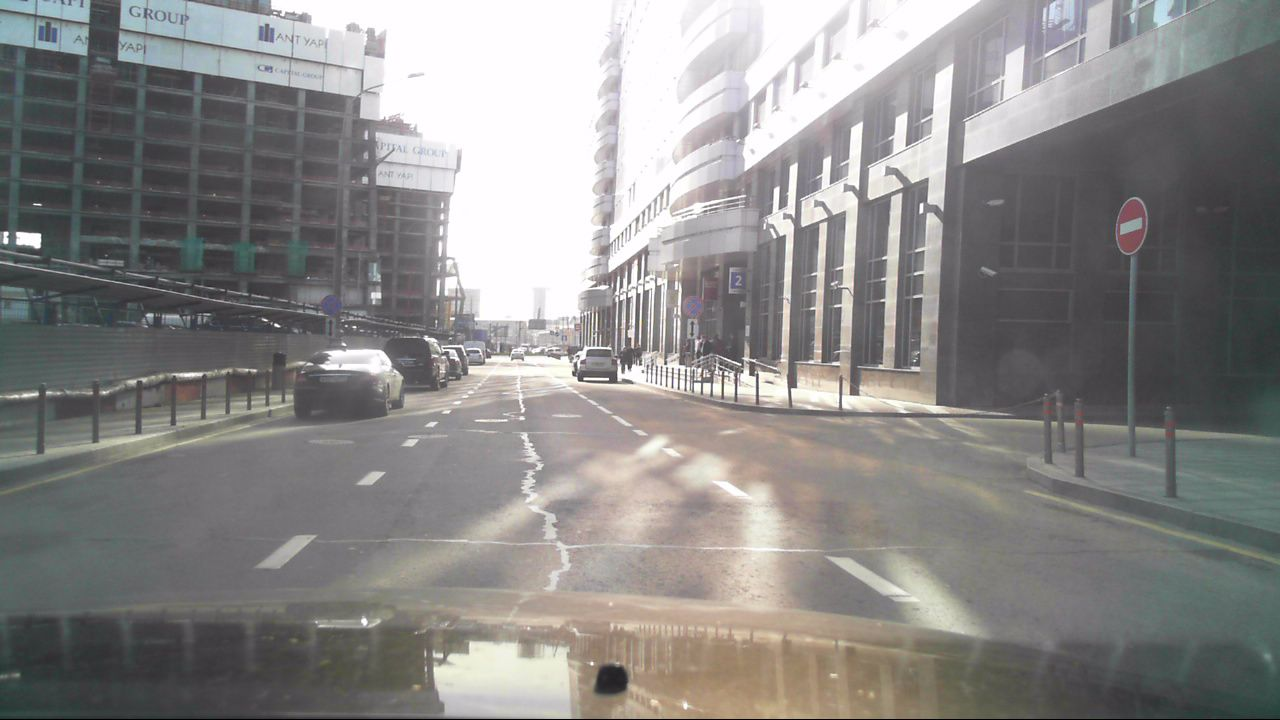No Parking: (683, 292, 704, 318)
